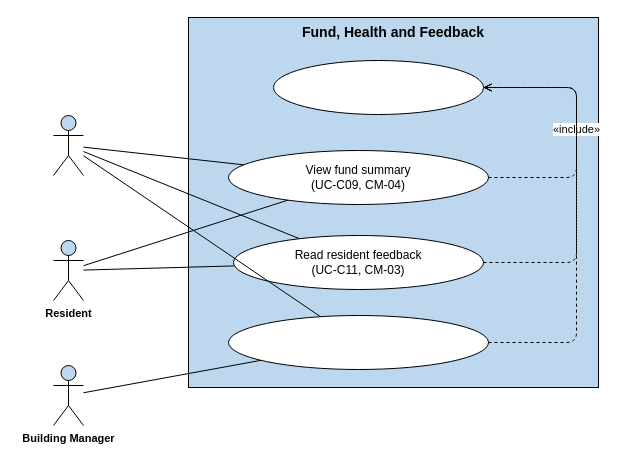
Image size: 617x463. Some labels were removed from this diagram. Each missing label, with the centre of its shape:
Committee Member: point 68,145
Log in (UC-C01): point 378,87
View building health (UC-C10, CM-04): point 358,342
